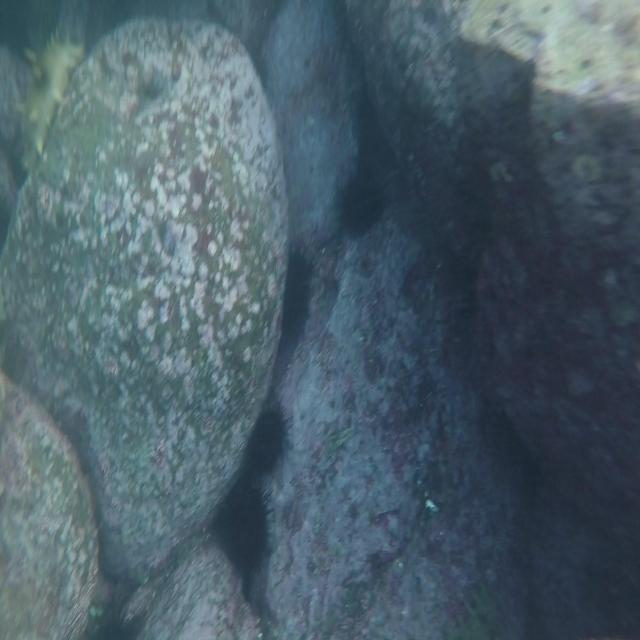echinus: (218, 472, 276, 577), (245, 394, 293, 480), (334, 166, 387, 243), (283, 241, 315, 346)
holothurian: (15, 20, 87, 178)
